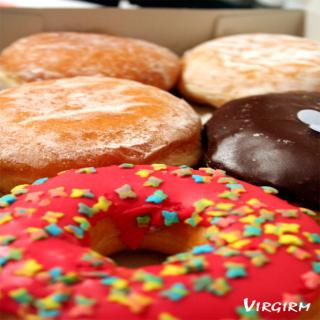Bread: (0, 30, 320, 320), (0, 72, 196, 171)
Doughnut: (0, 32, 320, 320), (200, 89, 320, 204)
